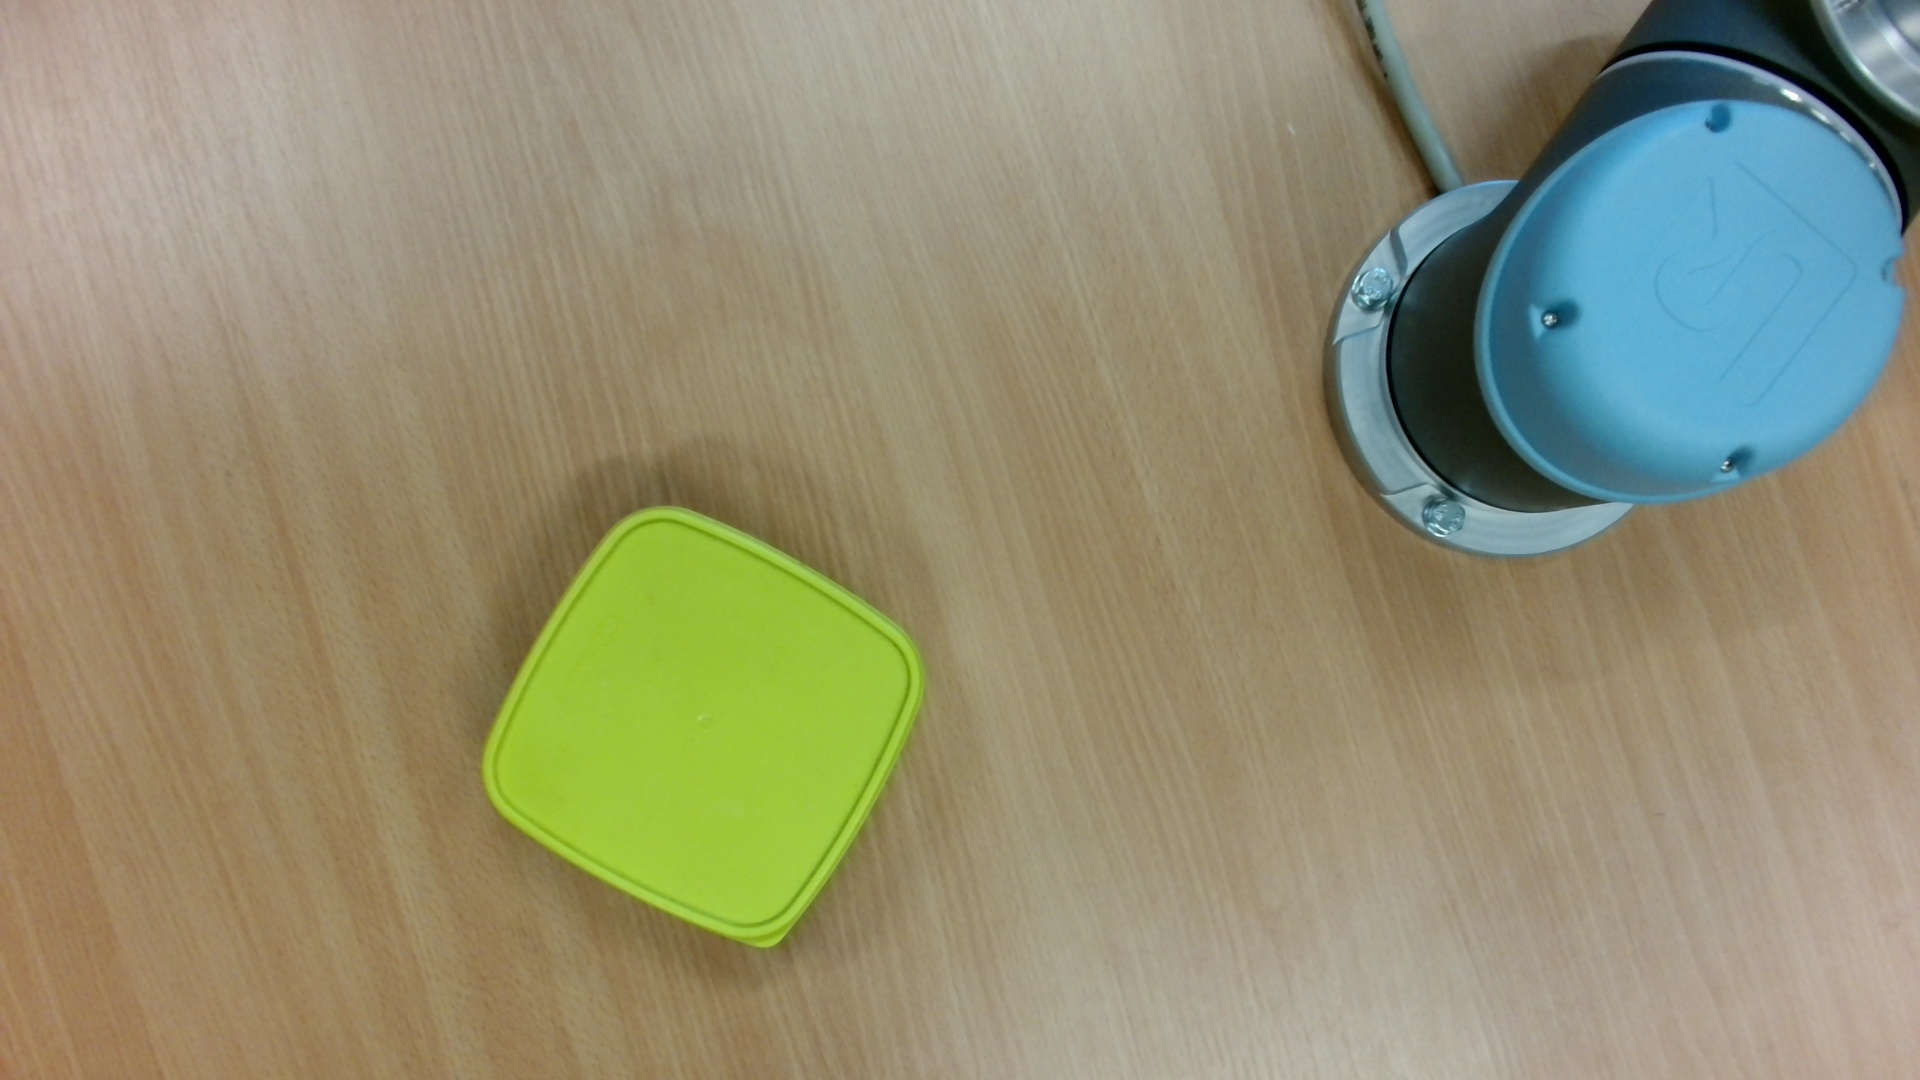Box: (469, 495, 935, 957)
